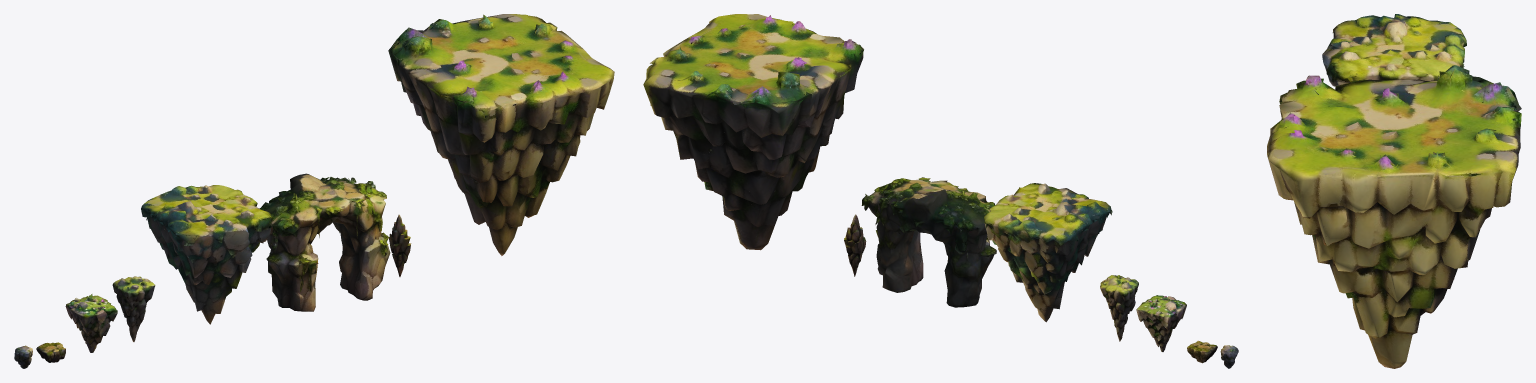
Rendered from inner_rock_kit.glb.
3 views of the same model, side by side, from view 1: azimuth 30°, elevation 25°; view 2: azimuth 150°, elevation 25°; view 3: azimuth 270°, elevation 25° (orthographic). The views are drawn at different scales.
Parts seen in each view (by area): view 1: cliff_wall, rock_arch, rock_large, rock_medium_A, rock_medium_B, stalagmite; view 2: cliff_wall, rock_arch, rock_large, rock_medium_A, rock_medium_B, stalagmite; view 3: cliff_wall, rock_large.
Part boxes in pixels (x1,y1,x2,y2): cliff_wall: [388, 14, 614, 255]; rock_arch: [259, 173, 390, 311]; rock_large: [141, 185, 272, 324]; rock_medium_A: [65, 294, 117, 352]; rock_medium_B: [112, 276, 155, 341]; stalagmite: [389, 214, 411, 276]; cliff_wall: [643, 14, 863, 250]; rock_arch: [861, 177, 996, 307]; rock_large: [984, 183, 1112, 322]; rock_medium_A: [1136, 295, 1186, 351]; rock_medium_B: [1100, 275, 1138, 341]; stalagmite: [844, 214, 866, 276]; cliff_wall: [1267, 65, 1521, 368]; rock_large: [1322, 14, 1466, 86].
Bounding box in the file's own units: 28 × 10.09 × 8.8.
Materials: 1 (1 with a texture image).
